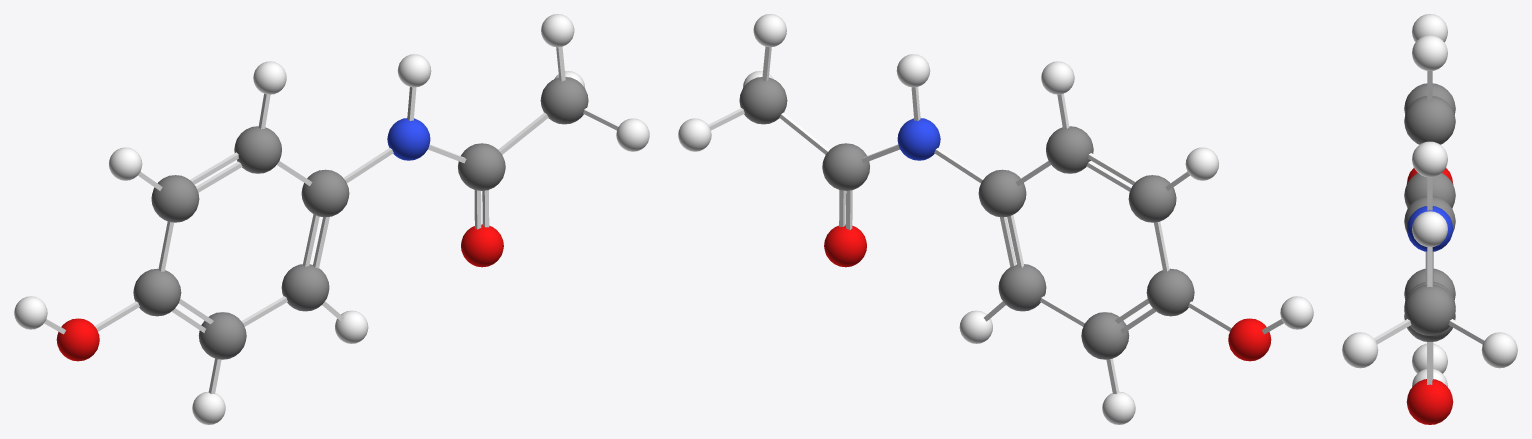
File: paracetamol_scale.glb
The picture shows the model from 3 angles, left to right: view 1: azimuth 30°, elevation 25°; view 2: azimuth 150°, elevation 25°; view 3: azimuth 270°, elevation 25°; orthographic projection. The views are drawn at different scales.
Visible parts, largest first — view 1: nodes[1], nodes[0], nodes[12], nodes[5], nodes[14], nodes[4], nodes[3], nodes[2], nodes[11], nodes[6], nodes[13], nodes[8] (+7 smaller); view 2: nodes[1], nodes[0], nodes[12], nodes[5], nodes[14], nodes[4], nodes[3], nodes[2], nodes[11], nodes[6], nodes[13], nodes[8] (+7 smaller); view 3: nodes[14], nodes[3], nodes[13], nodes[1], nodes[16], nodes[17], nodes[19], nodes[15], nodes[8], nodes[7], nodes[9], nodes[11] (+11 smaller).
Boxes of the visible parts, <box> form: nodes[1]: <box>133,268,181,316</box>; nodes[0]: <box>151,175,199,222</box>; nodes[12]: <box>458,143,505,190</box>; nodes[5]: <box>281,264,329,311</box>; nodes[14]: <box>540,77,588,124</box>; nodes[4]: <box>301,169,349,217</box>; nodes[3]: <box>234,126,281,173</box>; nodes[2]: <box>198,312,246,359</box>; nodes[11]: <box>387,118,430,160</box>; nodes[6]: <box>56,318,99,361</box>; nodes[13]: <box>461,224,503,267</box>; nodes[8]: <box>253,61,286,94</box>; nodes[1]: <box>1146,268,1194,316</box>; nodes[0]: <box>1128,175,1176,222</box>; nodes[12]: <box>822,143,869,190</box>; nodes[5]: <box>998,264,1046,311</box>; nodes[14]: <box>739,77,787,124</box>; nodes[4]: <box>978,169,1026,217</box>; nodes[3]: <box>1046,126,1093,173</box>; nodes[2]: <box>1081,312,1129,359</box>; nodes[11]: <box>897,118,940,160</box>; nodes[6]: <box>1228,318,1271,361</box>; nodes[13]: <box>824,224,866,267</box>; nodes[8]: <box>1041,61,1074,94</box>; nodes[14]: <box>1404,285,1455,335</box>; nodes[3]: <box>1404,96,1455,144</box>; nodes[13]: <box>1406,379,1453,424</box>; nodes[1]: <box>1404,173,1455,208</box>; nodes[16]: <box>1481,332,1517,368</box>; nodes[17]: <box>1342,332,1378,368</box>; nodes[19]: <box>1412,141,1447,177</box>; nodes[15]: <box>1412,211,1447,247</box>; nodes[8]: <box>1412,35,1447,70</box>; nodes[7]: <box>1412,14,1447,42</box>; nodes[9]: <box>1412,343,1447,373</box>; nodes[11]: <box>1406,206,1453,251</box>.
Bounding box in the file's own units: 0.3588 × 0.198 × 0.0846.
